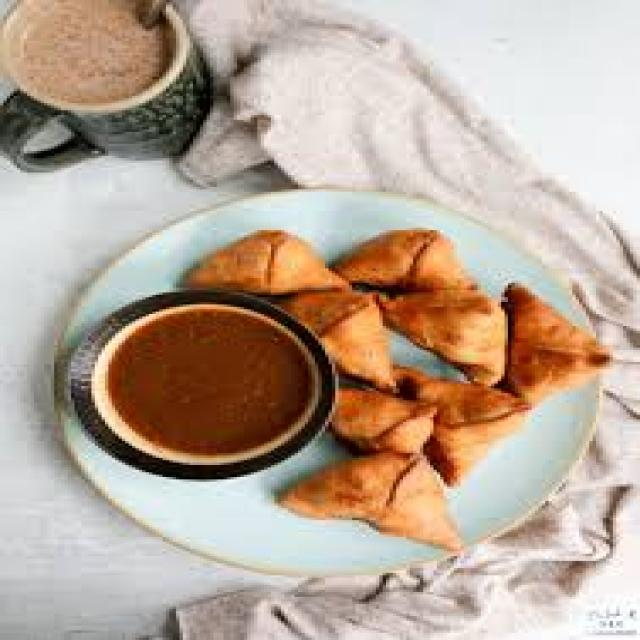SAMOSA: (280, 453, 470, 553), (482, 290, 618, 406), (406, 367, 524, 489), (178, 230, 350, 293), (300, 290, 395, 386), (340, 229, 479, 289), (326, 390, 442, 434)
